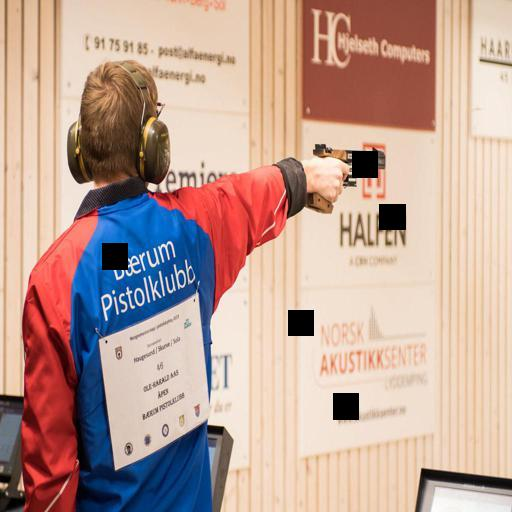Handgun: (306, 138, 386, 215)
